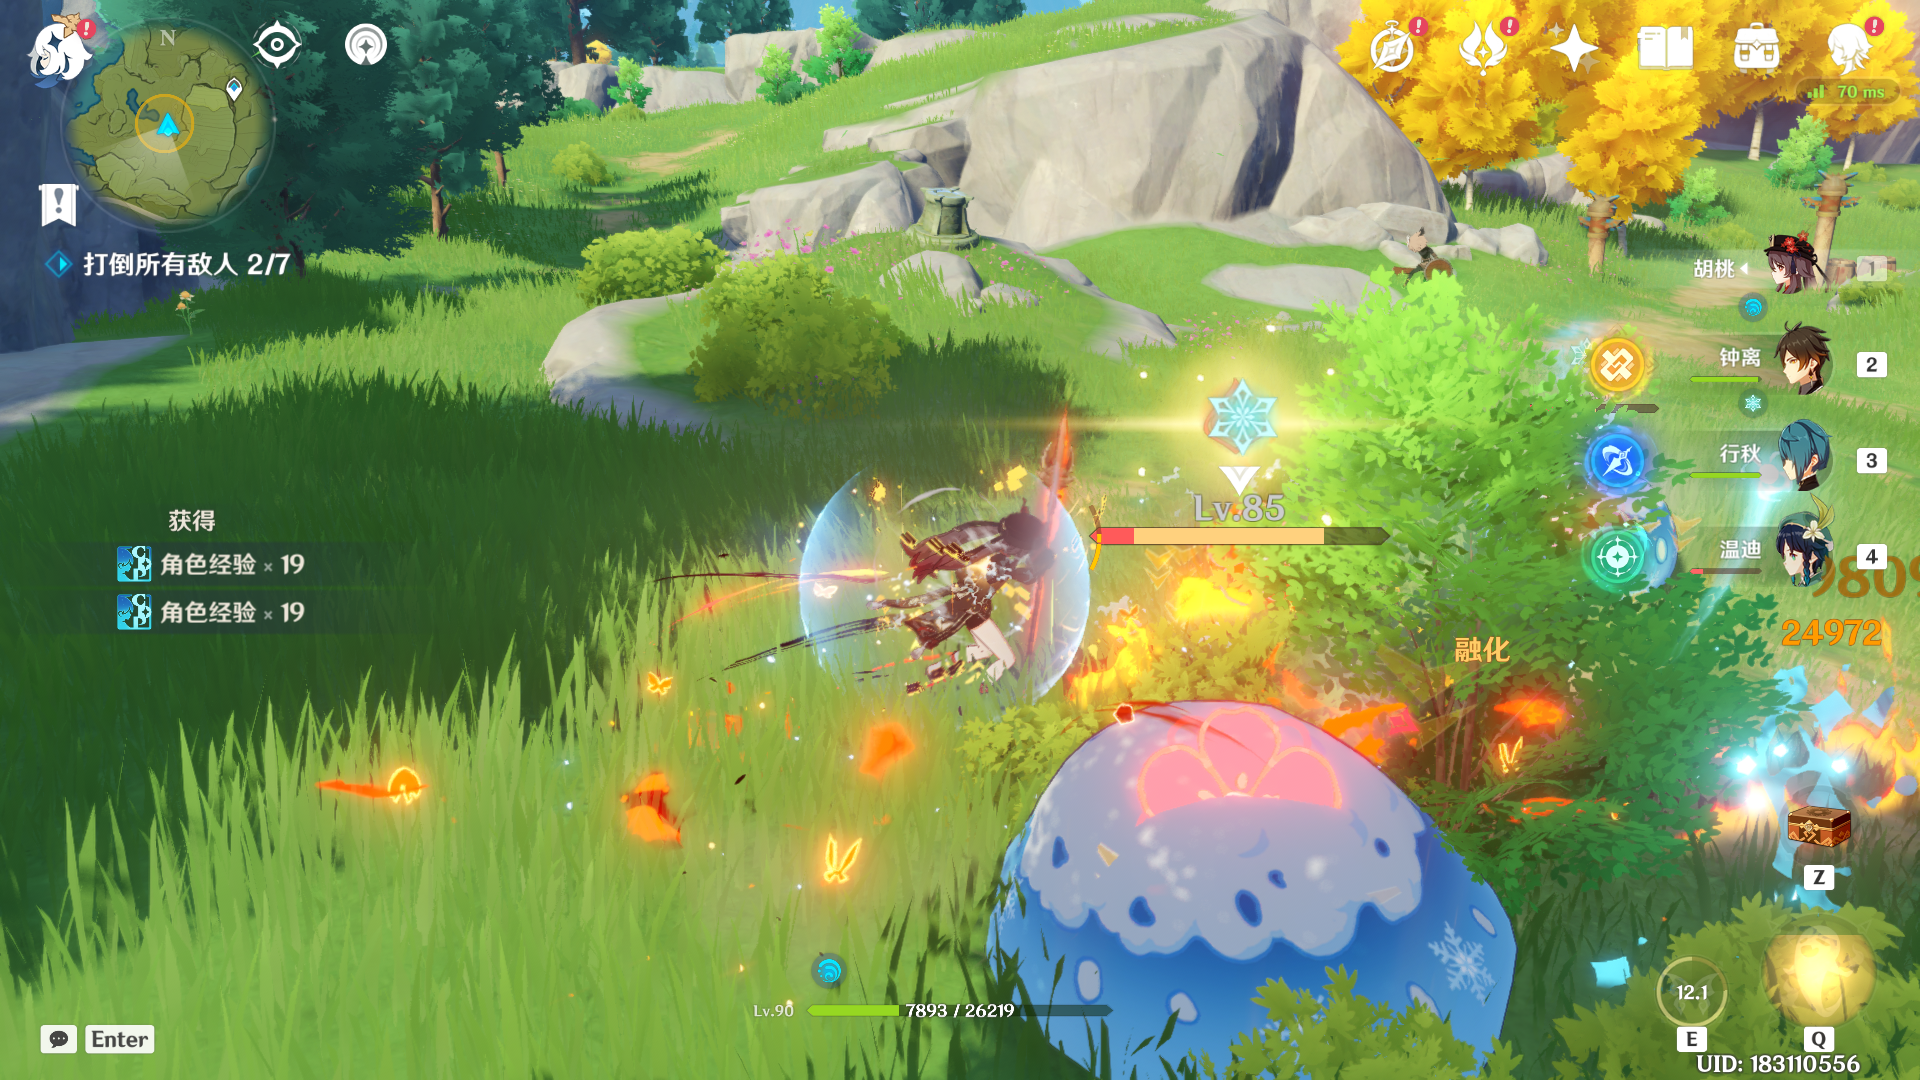character: (737, 455, 1069, 694)
hili: (1375, 227, 1457, 301)
slime: (1018, 649, 1561, 1080)
